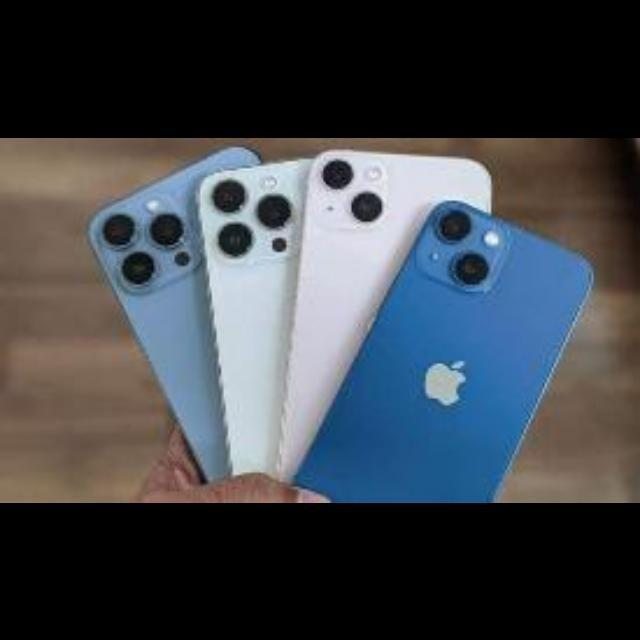PhoneUse: (313, 201, 589, 501), (85, 146, 268, 482)
